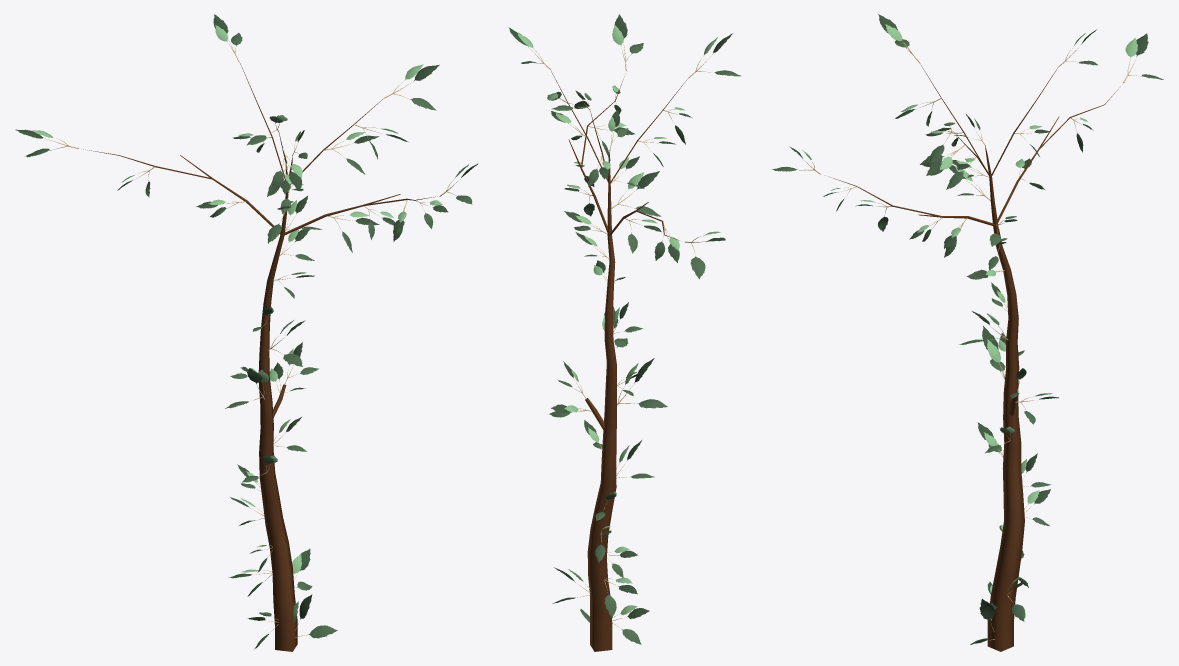
Rendered from Tree25.fbx.
3 views of the same model, side by side, from view 1: azimuth 30°, elevation 25°; view 2: azimuth 150°, elevation 25°; view 3: azimuth 270°, elevation 25° (orthographic).
Parts seen in each view (by area): view 1: Árbol.002; view 2: Árbol.002, Hojas|tree|Dupli|13, Hojas|tree|Dupli|25, Hojas|tree|Dupli|31, Hojas|tree|Dupli|23, Hojas|tree|Dupli|7, Hojas|tree|Dupli|30, Hojas|tree|Dupli|5, Hojas|tree|Dupli|14; view 3: Árbol.002.
Boxes of the visible parts, <box> form: Árbol.002: <box>83,63,437,651</box>; Árbol.002: <box>551,71,687,651</box>; Hojas|tree|Dupli|13: <box>611,171,661,216</box>; Hojas|tree|Dupli|25: <box>612,14,643,70</box>; Hojas|tree|Dupli|31: <box>617,358,667,408</box>; Hojas|tree|Dupli|23: <box>612,605,649,644</box>; Hojas|tree|Dupli|7: <box>604,577,637,617</box>; Hojas|tree|Dupli|30: <box>654,223,679,262</box>; Hojas|tree|Dupli|5: <box>685,231,725,279</box>; Hojas|tree|Dupli|14: <box>688,33,741,78</box>; Árbol.002: <box>828,63,1120,651</box>.
Size of the model in its own units: 456 by 814 by 479.
